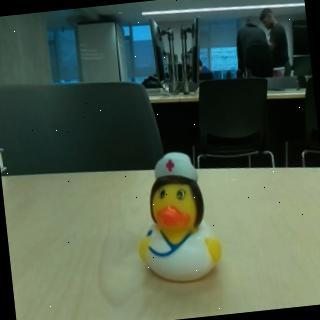duck_specialty: (128, 145, 227, 287)
